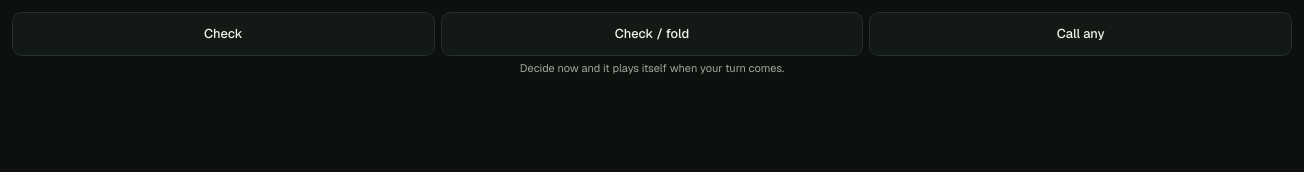
deciding before your turn › shows the choice the instant it is tapped, not when the poll comes back
This screenshot has width=1304, height=172.
What coordinates should you click on to do the following:
click the button "Check / fold"
I would click on:
 (652, 34)
Its box is [441,12,863,56].
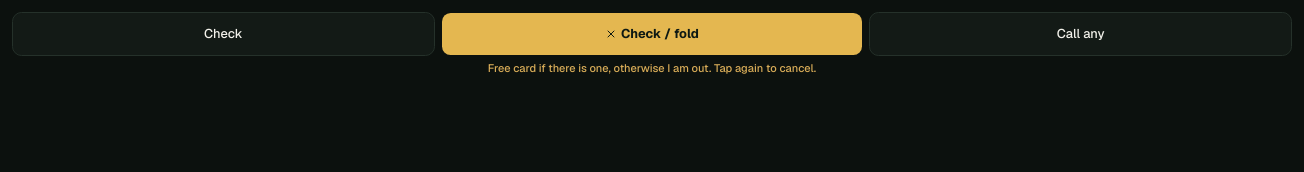
Result: the text "Tap again to cancel" is shown at [488,61,816,75]
